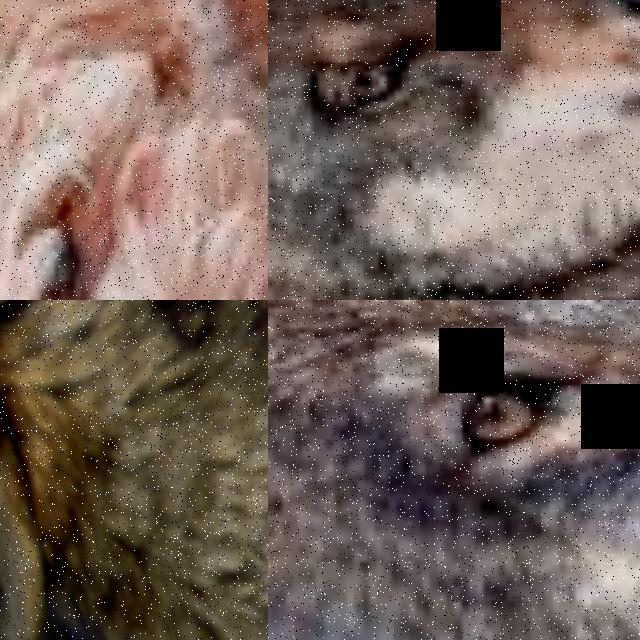dog: (0, 0, 268, 300)
wolf: (268, 300, 640, 640), (268, 0, 640, 300), (0, 300, 268, 640)
